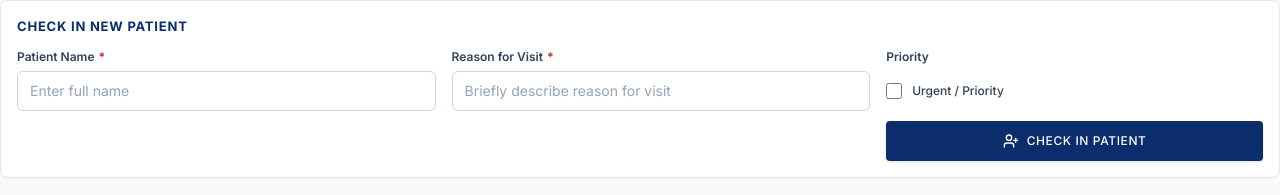
Test: CheckInStrip Component › displays validation error messages when submitting empty fields (covers: AC-5)
Click the button "CHECK IN PATIENT": (1075, 140) x1=886 y1=120 x2=1263 y2=160
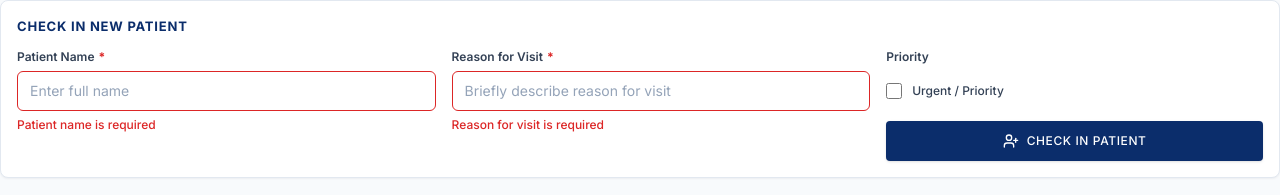
Now the text "Patient name is required" is shown, box x1=17 y1=116 x2=156 y2=132
Now the text "Reason for visit is required" is shown, box x1=452 y1=116 x2=604 y2=132
